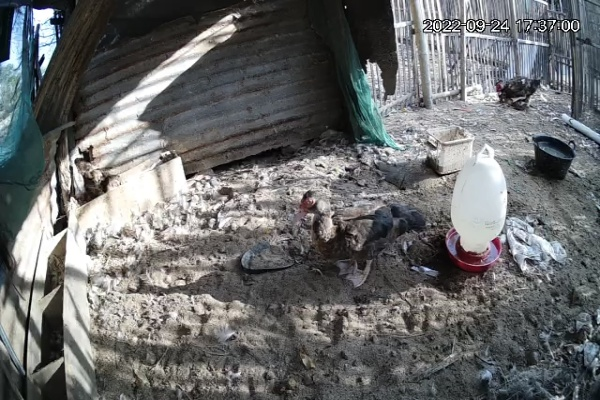Kawin: (486, 66, 543, 117)
